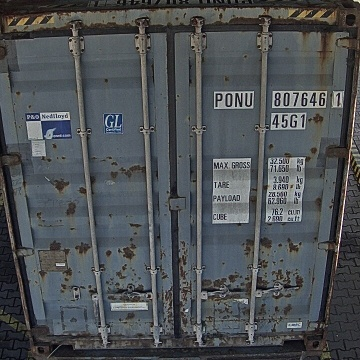serial_id: (214, 92, 342, 108)
